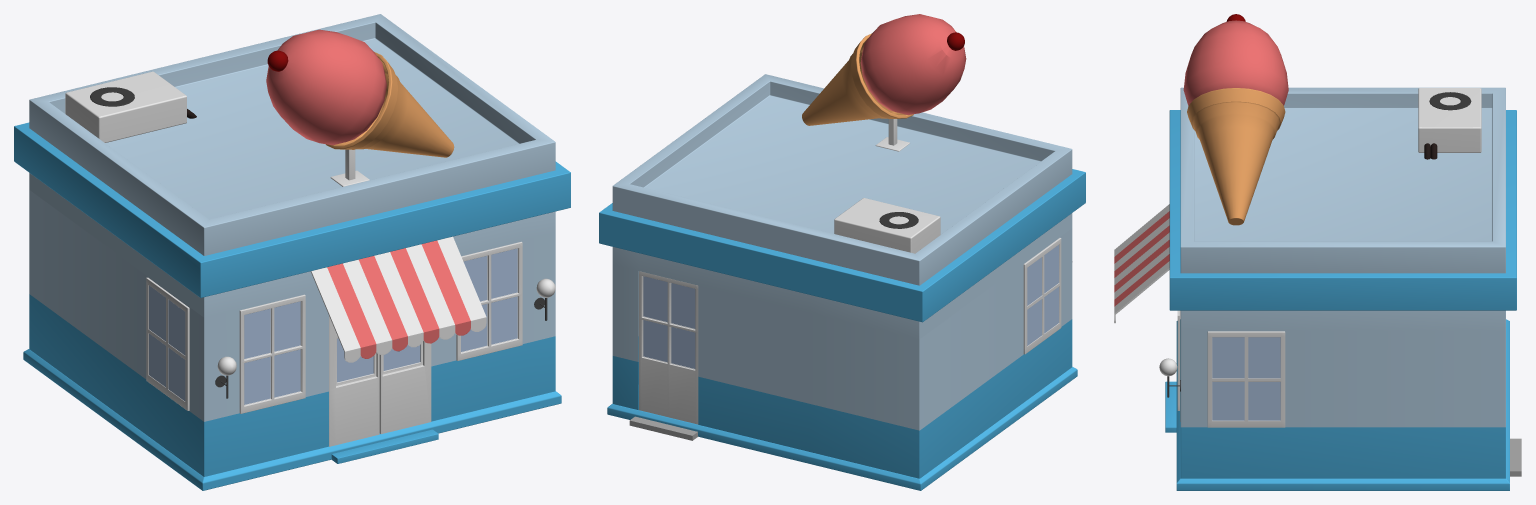
File: IceCreamBuilding.fbx
3 views of the same model, side by side, from view 1: azimuth 30°, elevation 25°; view 2: azimuth 150°, elevation 25°; view 3: azimuth 270°, elevation 25° (orthographic). The views are drawn at different scales.
Visible parts, largest first — view 1: icescream house; view 2: icescream house; view 3: icescream house.
Boxes of the visible parts, x1,y1,x2,y2 form: icescream house: [14, 14, 570, 490]; icescream house: [599, 14, 1085, 490]; icescream house: [1114, 14, 1521, 490].
Bounding box in the file's own units: 2096 × 2146 × 2148.
